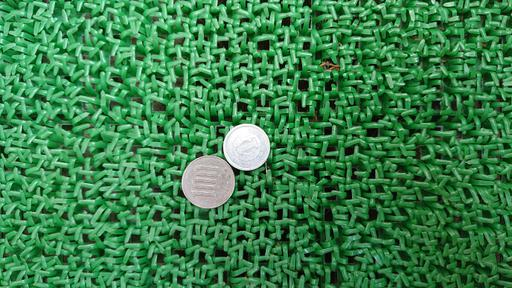100yen: (182, 157, 234, 207)
1yen: (222, 123, 269, 170)
